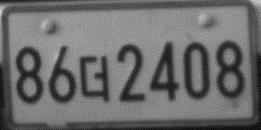0: (182, 42, 210, 100)
2: (115, 43, 147, 102)
4: (147, 40, 179, 100)
6: (47, 45, 76, 104)
8: (215, 40, 246, 99), (14, 46, 45, 103)
더: (78, 54, 110, 103)
